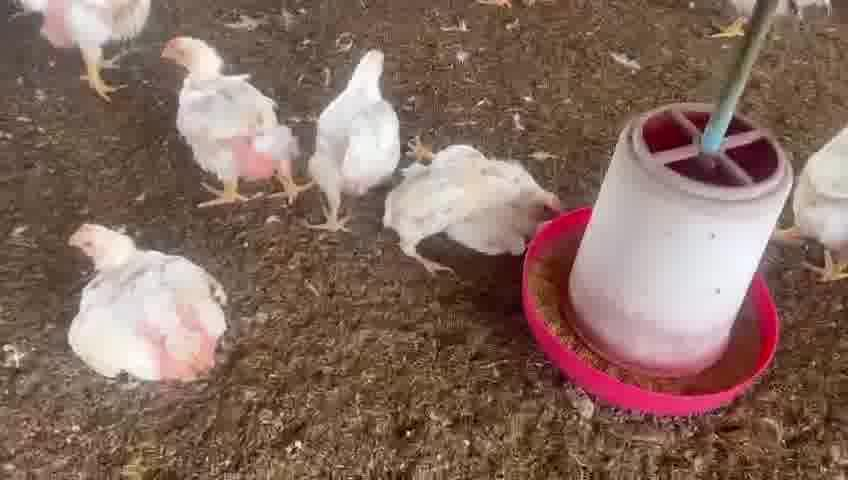AbNormal: (381, 119, 553, 258)
Normal: (43, 211, 234, 391), (159, 31, 309, 209), (295, 20, 396, 239)
